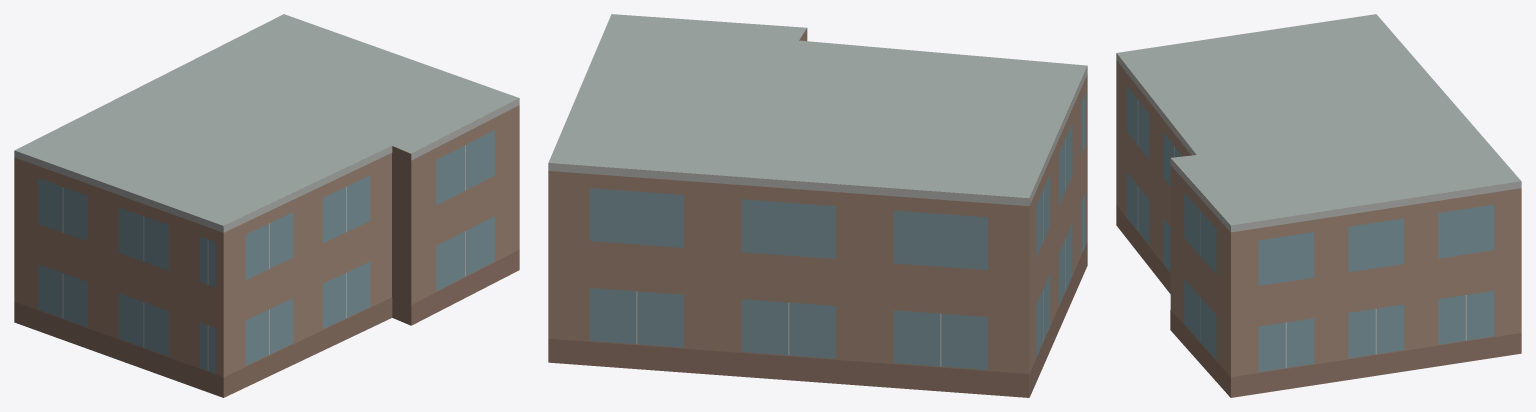
Rendered from survey-upis-32852131.glb.
The picture shows the model from 3 angles, left to right: view 1: azimuth 30°, elevation 25°; view 2: azimuth 150°, elevation 25°; view 3: azimuth 270°, elevation 25°; orthographic projection. The views are drawn at different scales.
Visible parts, largest first — view 1: survey-upis-32852131.tmp; view 2: survey-upis-32852131.tmp; view 3: survey-upis-32852131.tmp.
Part boxes in pixels (x1=…): survey-upis-32852131.tmp: x1=14, y1=14, x2=519, y2=397; survey-upis-32852131.tmp: x1=548, y1=14, x2=1087, y2=397; survey-upis-32852131.tmp: x1=1116, y1=14, x2=1521, y2=397.
Bounding box in the file's own units: 16.07 × 6.1 × 13.01.
